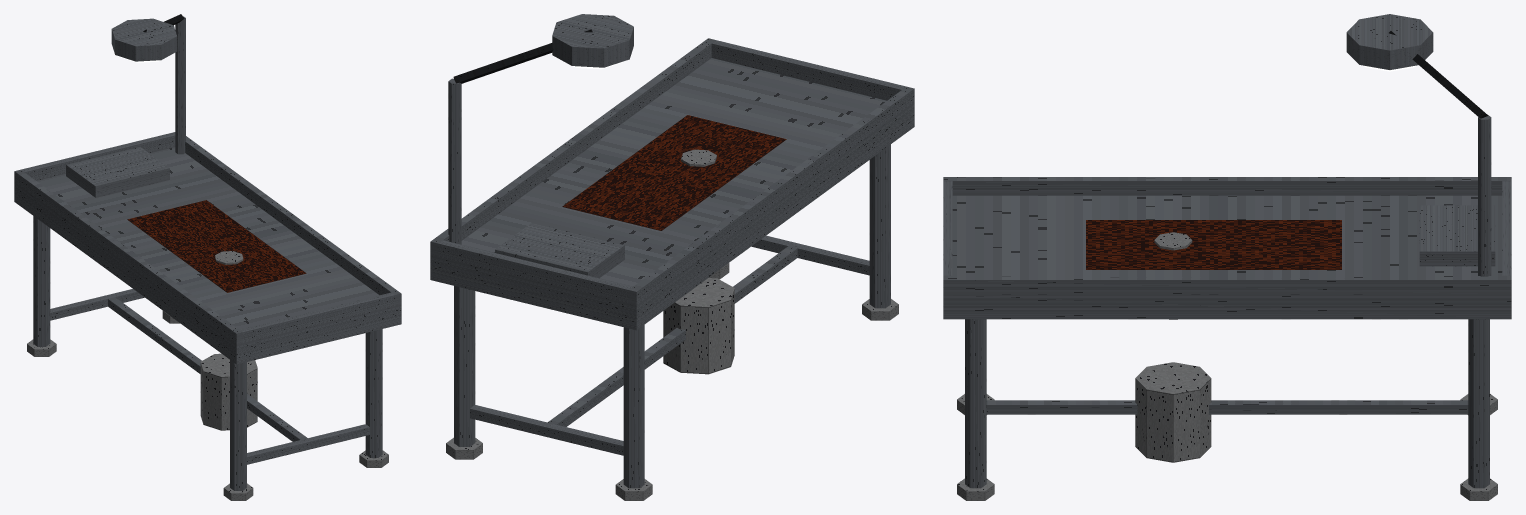
The model's file is autopsy_table_medbay_clean.glb.
3 views of the same model, side by side, from view 1: azimuth 30°, elevation 25°; view 2: azimuth 150°, elevation 25°; view 3: azimuth 270°, elevation 25° (orthographic). The views are drawn at different scales.
Visible parts, largest first — view 1: autopsy_table_medbay_clean; view 2: autopsy_table_medbay_clean; view 3: autopsy_table_medbay_clean.
Part boxes in pixels (x1,y1,x2,y2): autopsy_table_medbay_clean: (14, 14, 401, 500); autopsy_table_medbay_clean: (430, 14, 914, 500); autopsy_table_medbay_clean: (943, 14, 1511, 500).
Size of the model in its own units: 0.9 by 1.72 by 2.1.
Materials: 5 (5 with a texture image).
